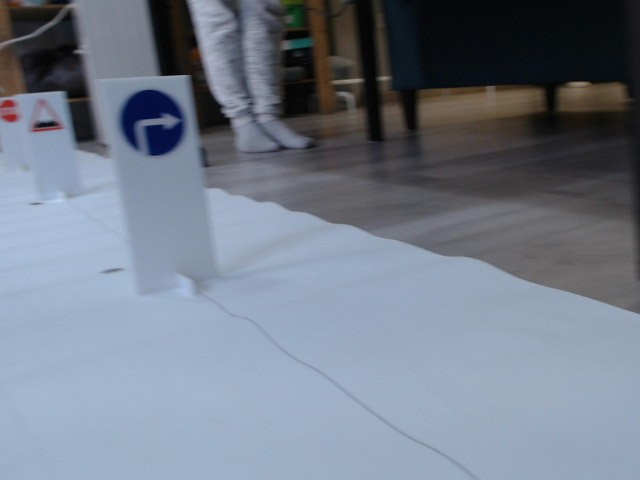Nerov: (28, 98, 63, 133)
Right: (118, 87, 186, 159)
